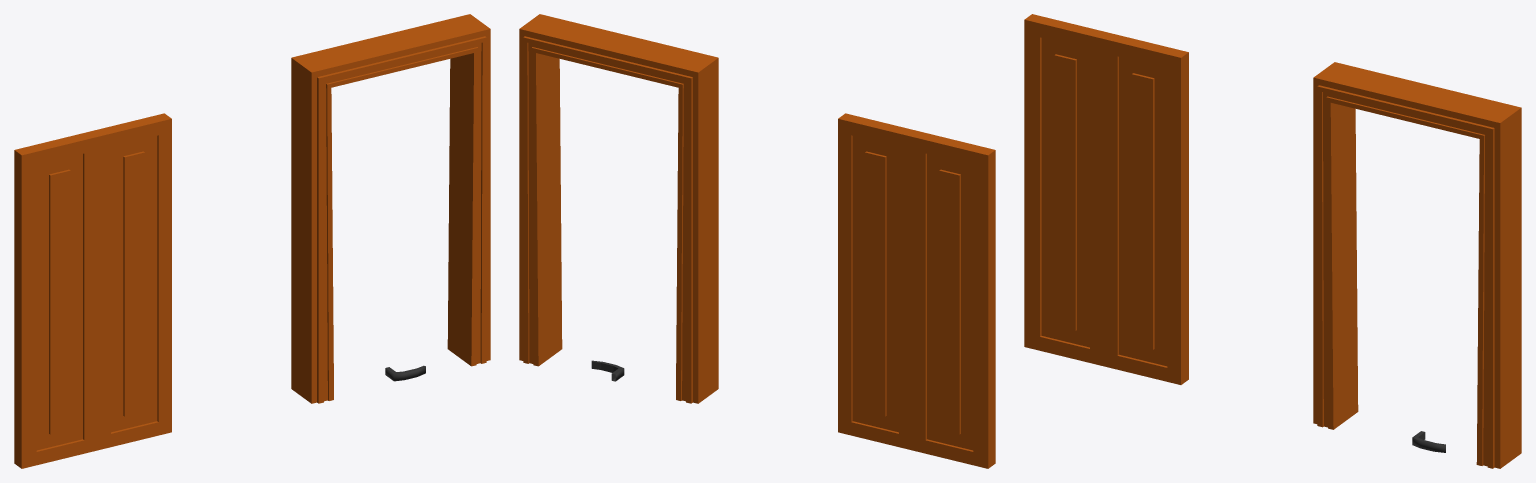
Rendered from cua.fbx.
The picture shows the model from 3 angles, left to right: view 1: azimuth 30°, elevation 25°; view 2: azimuth 150°, elevation 25°; view 3: azimuth 330°, elevation 25°; orthographic projection. The views are drawn at different scales.
Visible parts, largest first — view 1: Door 1, Door Frame 2; view 2: Door 1, Door Frame 2; view 3: Door 1, Door Frame 2.
Boxes of the visible parts, <box> form: Door 1: <box>14,113,171,468</box>; Door Frame 2: <box>291,14,490,403</box>; Door 1: <box>838,113,995,468</box>; Door Frame 2: <box>519,14,718,403</box>; Door 1: <box>1024,14,1188,384</box>; Door Frame 2: <box>1313,62,1521,468</box>.
Size of what is drawn, in the model's own units: 312 by 216 by 27.69.
